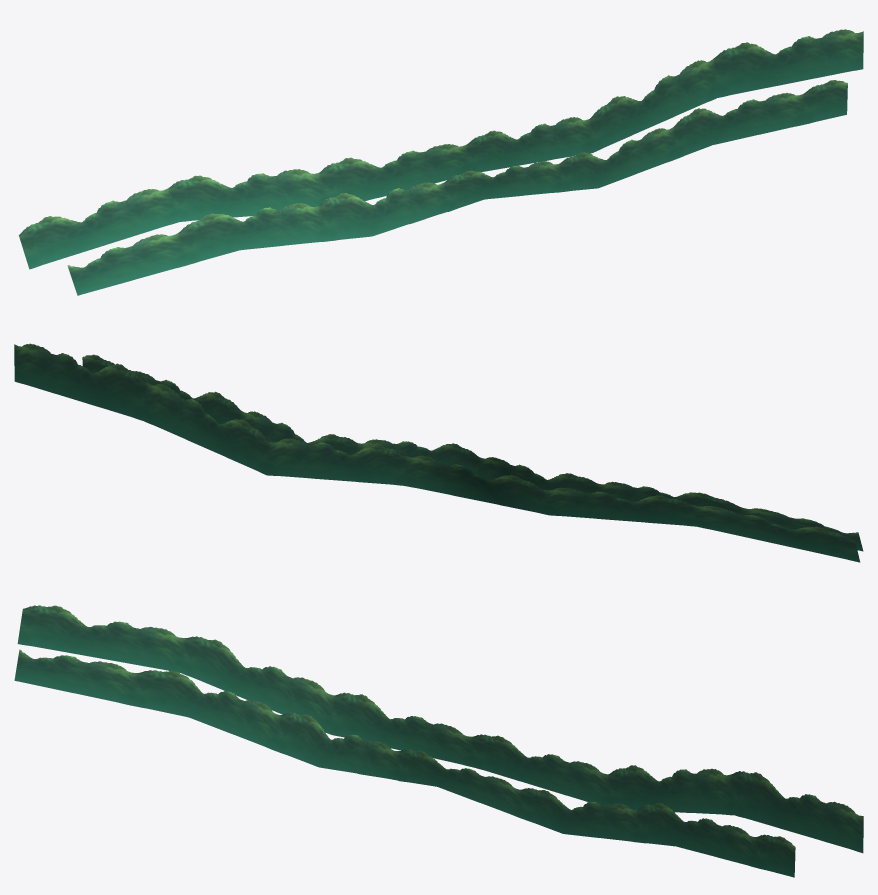
Rendered from Level 5 Horizon.FBX.
The picture shows the model from 3 angles, top to bottom: view 1: azimuth 30°, elevation 25°; view 2: azimuth 150°, elevation 25°; view 3: azimuth 330°, elevation 25°; orthographic projection.
Parts seen in each view (by area): view 1: Horizon; view 2: Horizon; view 3: Horizon.
Part boxes in pixels (<box>): Horizon: <box>18,29,863,295</box>; Horizon: <box>14,343,863,562</box>; Horizon: <box>14,605,863,877</box>.
Bounding box in the file's own units: 30810 × 2860 × 3403.
